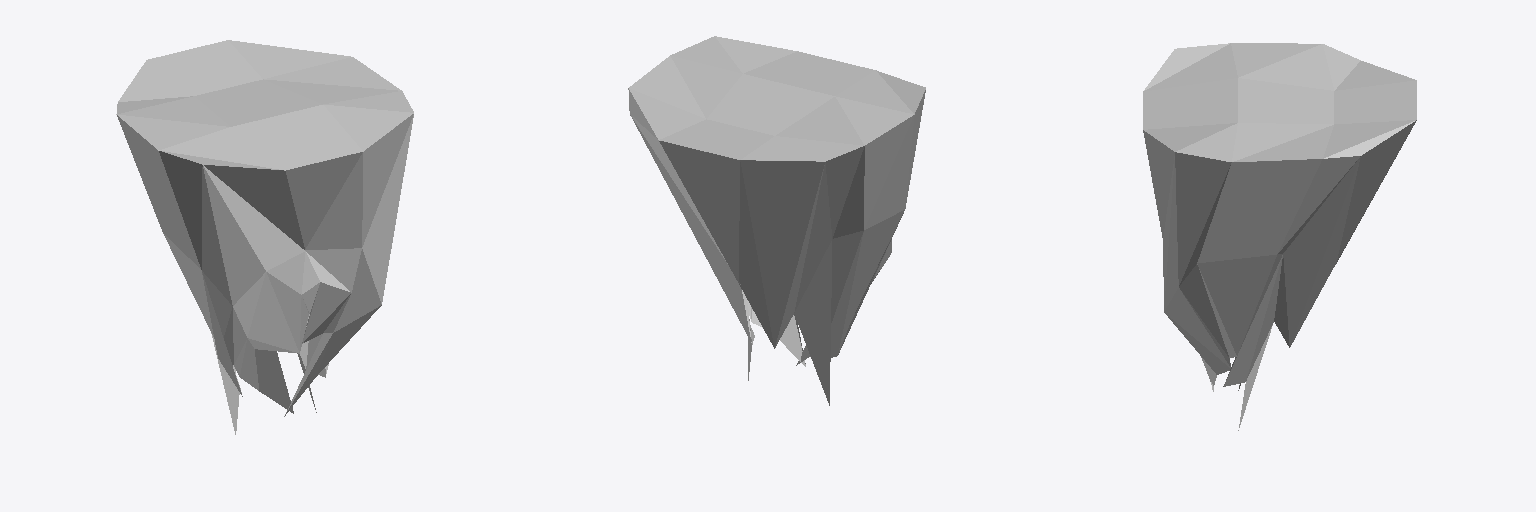
The model's file is stone0012.obj.
3 renders of one model, left to right at view 1: azimuth 30°, elevation 25°; view 2: azimuth 150°, elevation 25°; view 3: azimuth 270°, elevation 25°, orthographic.
Visible parts, largest first — view 1: Landscape.004; view 2: Landscape.004; view 3: Landscape.004.
Boxes of the visible parts, x1,y1,x2,y2 form: Landscape.004: [116, 40, 413, 434]; Landscape.004: [628, 36, 925, 405]; Landscape.004: [1143, 43, 1416, 430].
Size of the model in its own units: 0.4274 by 0.5217 by 0.4158.